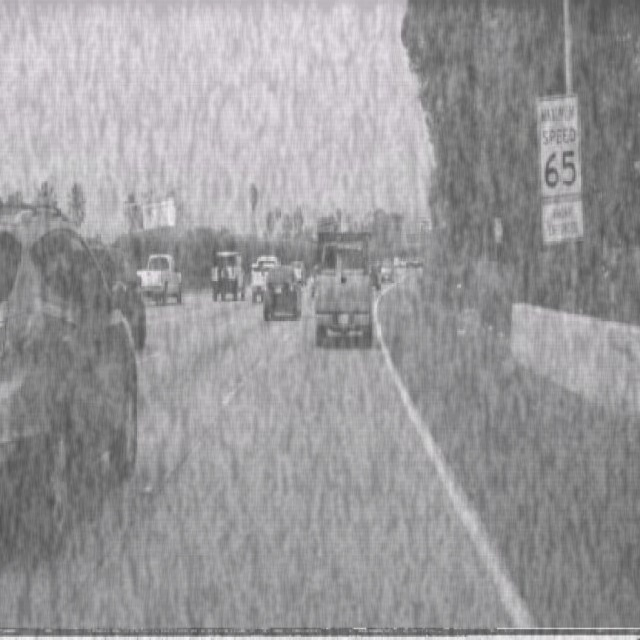speedLimit65: (535, 91, 583, 202)
